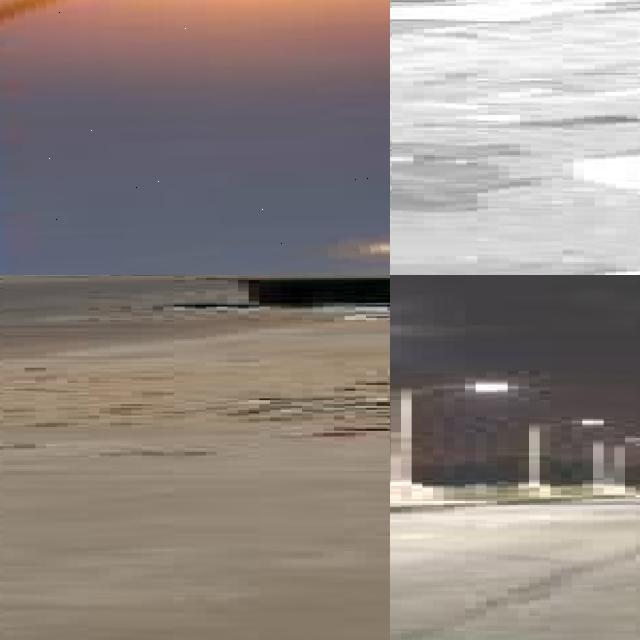street light: (0, 0, 390, 275), (390, 383, 508, 481), (529, 419, 609, 481)
